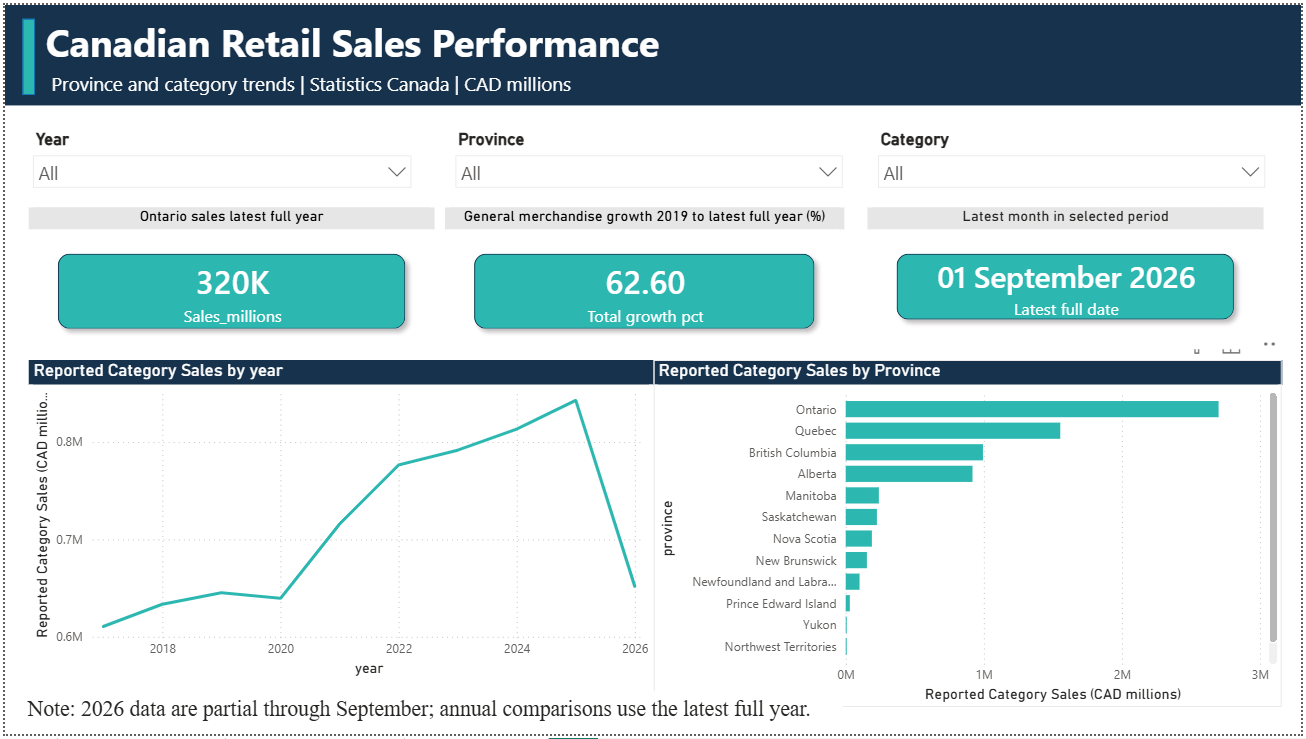

The dashboard page shown, as its layout file describes it:
{"tool":"powerbi","page":{"name":"Overview","canvas":[1280,720],"ordinal":0},"visuals":[{"type":"lineChart","title":"Reported Category Sales by year","fields":{"Category":["retail_sales_flat.year"],"Y":["retail_sales_flat.Reported Category Sales (CAD millions)"]},"box":[23.4,350.3,616.8,317.3],"z":0},{"type":"textbox","box":[0,0,1280.3,98.9],"z":1000},{"type":"shape","box":[17.8,13.7,12.3,75.5],"z":2000},{"type":"slicer","fields":{"Values":["retail_sales_flat.year"]},"box":[17.9,116.8,394.2,74.2],"z":3000},{"type":"slicer","fields":{"Values":["retail_sales_flat.province"]},"box":[434.1,116.8,402.5,74.2],"z":4000},{"type":"slicer","fields":{"Values":["retail_sales_flat.category"]},"box":[851.7,116.8,402.5,74.2],"z":5000},{"type":"clusteredBarChart","title":"Reported Category Sales by Province","fields":{"Category":["retail_sales_flat.province"],"Y":["retail_sales_flat.Reported Category Sales (CAD millions)"]},"box":[640.1,350.3,620.9,343.4],"z":6000},{"type":"cardVisual","title":"Ontario sales latest full year","fields":{"Data":["Max(q01_province_ranking.sales_millions)"]},"box":[23.4,200.6,401.1,149.7],"z":7000},{"type":"cardVisual","title":"General merchandise growth 2019 to latest full year (%)","fields":{"Data":["Max(q03_category_growth.total_growth_pct)"]},"box":[434.1,200.6,394.2,149.7],"z":8000},{"type":"cardVisual","title":"Latest month in selected period","fields":{"Data":["Max(retail_sales_flat.full_date)"]},"box":[851.7,200.6,391.5,140.1],"z":9000},{"type":"textbox","box":[17.9,677.2,810.5,42.6],"z":10000}]}

Visuals, with their boxes in screenshot pixels (x1, y1, x2, y2), scaled from the page's 1280x720 canvas onto the 1306x739 screenshot:
"Reported Category Sales by year" lineChart: [x1=24, y1=360, x2=653, y2=685]
textbox: [x1=0, y1=0, x2=1305, y2=102]
shape: [x1=18, y1=14, x2=31, y2=92]
slicer - retail_sales_flat.year: [x1=18, y1=120, x2=420, y2=196]
slicer - retail_sales_flat.province: [x1=443, y1=120, x2=854, y2=196]
slicer - retail_sales_flat.category: [x1=869, y1=120, x2=1280, y2=196]
"Reported Category Sales by Province" clusteredBarChart: [x1=653, y1=360, x2=1287, y2=712]
"Ontario sales latest full year" cardVisual: [x1=24, y1=206, x2=433, y2=360]
"General merchandise growth 2019 to latest full year (%)" cardVisual: [x1=443, y1=206, x2=845, y2=360]
"Latest month in selected period" cardVisual: [x1=869, y1=206, x2=1268, y2=350]
textbox: [x1=18, y1=695, x2=845, y2=738]
